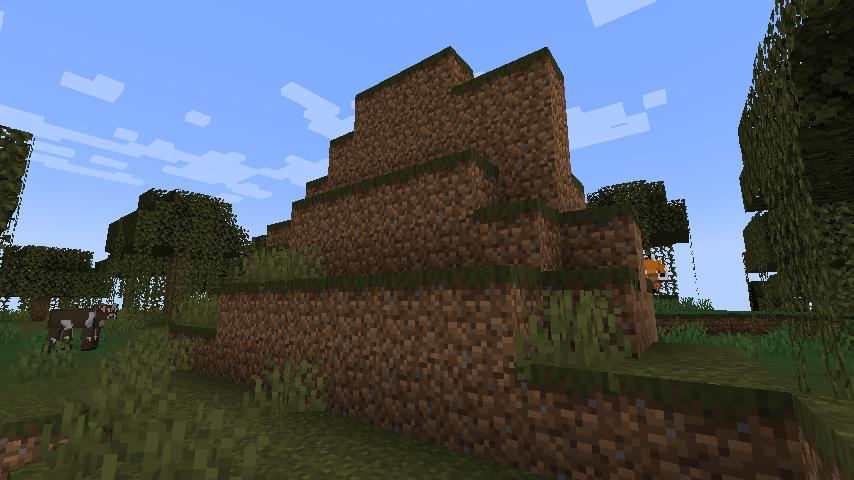cow: (41, 300, 120, 361)
fox: (635, 251, 675, 297)
